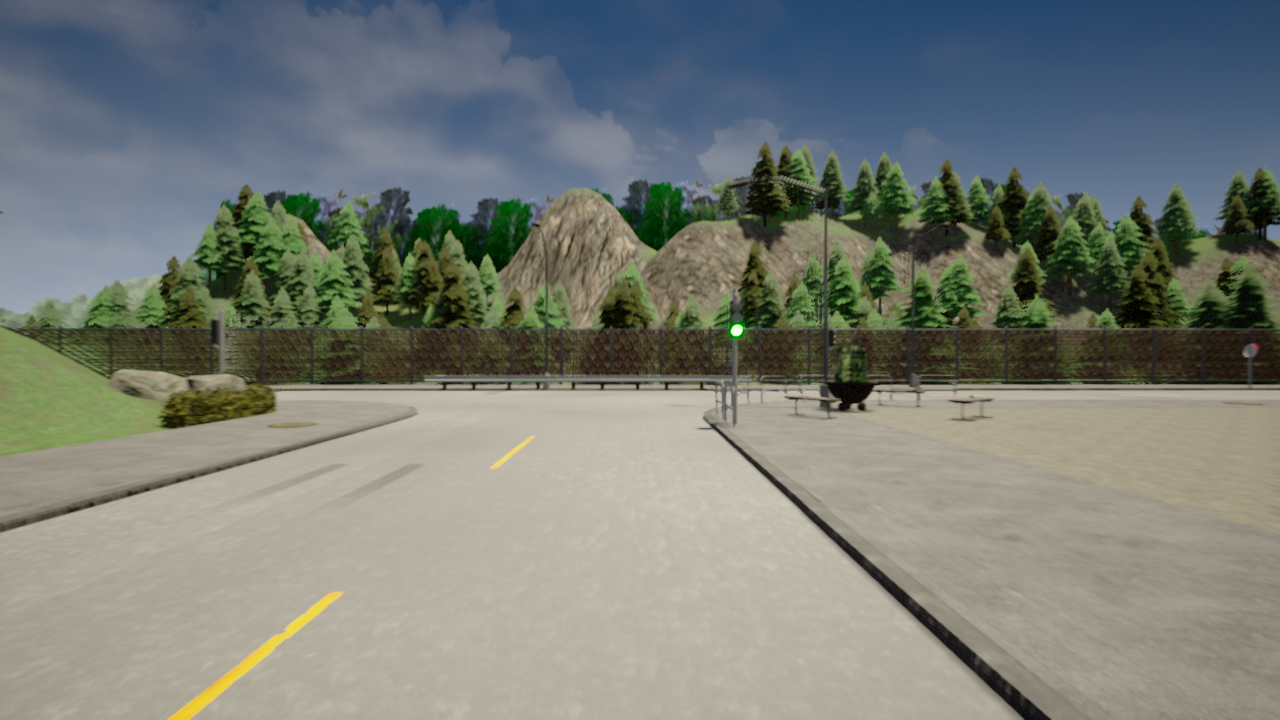green: (729, 299, 747, 339)
